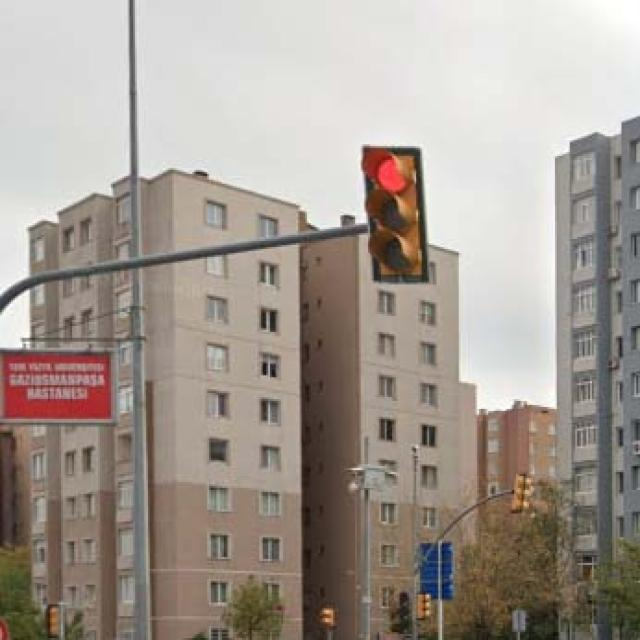kirmizi: (361, 144, 425, 284)
